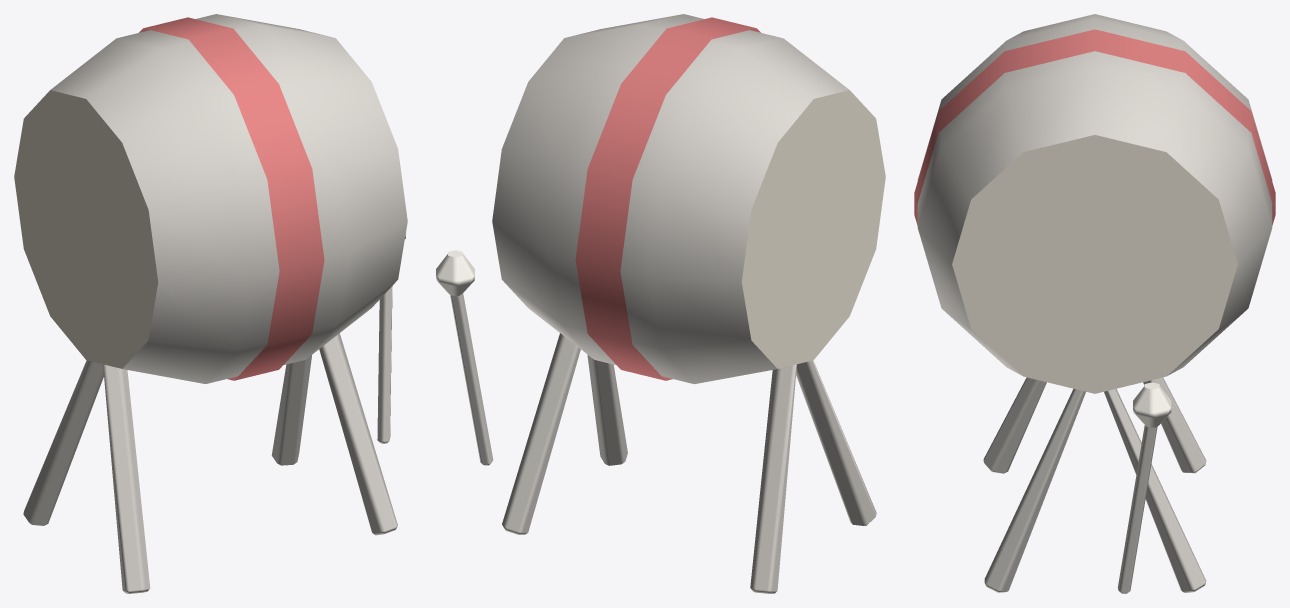
File: prop_drum.glb
3 renders of one model, left to right at view 1: azimuth 30°, elevation 25°; view 2: azimuth 150°, elevation 25°; view 3: azimuth 270°, elevation 25°, orthographic.
Visible parts, largest first — view 1: prop_drum; view 2: prop_drum; view 3: prop_drum.
Boxes of the visible parts, left/top/right/bottom form: prop_drum: left=14, top=14, right=407, bottom=593; prop_drum: left=436, top=14, right=885, bottom=593; prop_drum: left=914, top=14, right=1275, bottom=593.
Size of the model in its own units: 1.44 by 1.9 by 1.26.
